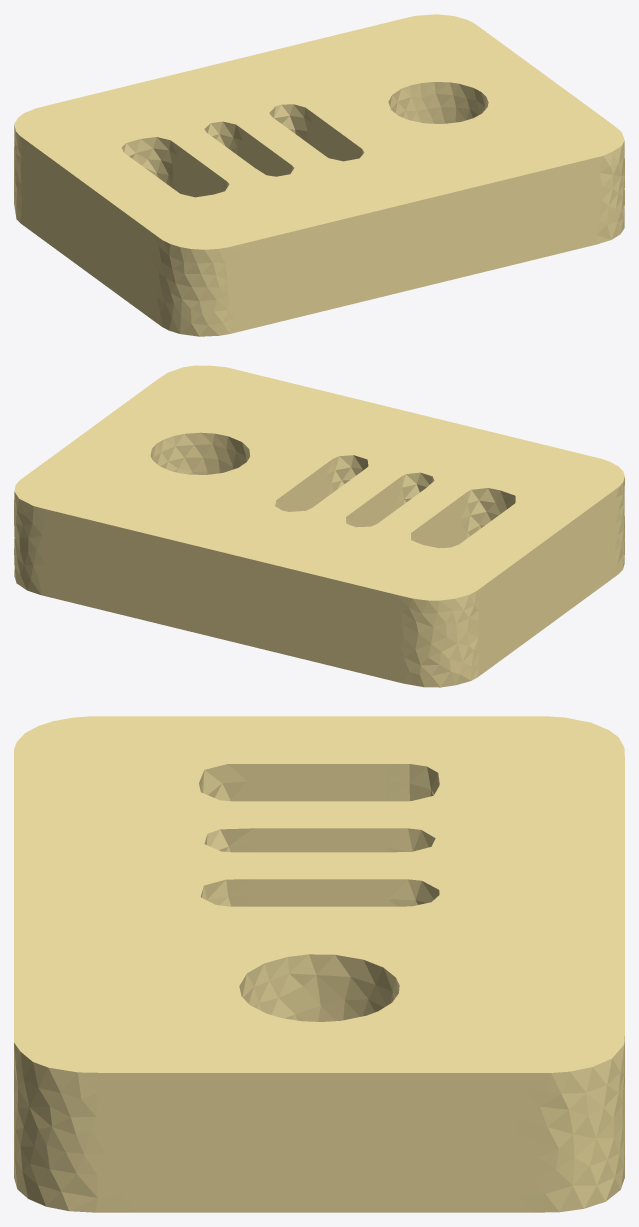
Rendered from input.gltf.
3 renders of one model, top to bottom at view 1: azimuth 30°, elevation 25°; view 2: azimuth 150°, elevation 25°; view 3: azimuth 270°, elevation 25°, orthographic. The views are drawn at different scales.
Visible parts, largest first — view 1: Renderer Node; view 2: Renderer Node; view 3: Renderer Node.
Part boxes in pixels (<box>): Renderer Node: <box>14,14,624,336</box>; Renderer Node: <box>14,365,624,687</box>; Renderer Node: <box>14,716,624,1212</box>.
Size of the model in its own units: 0.9845 by 0.1797 by 0.7125.
